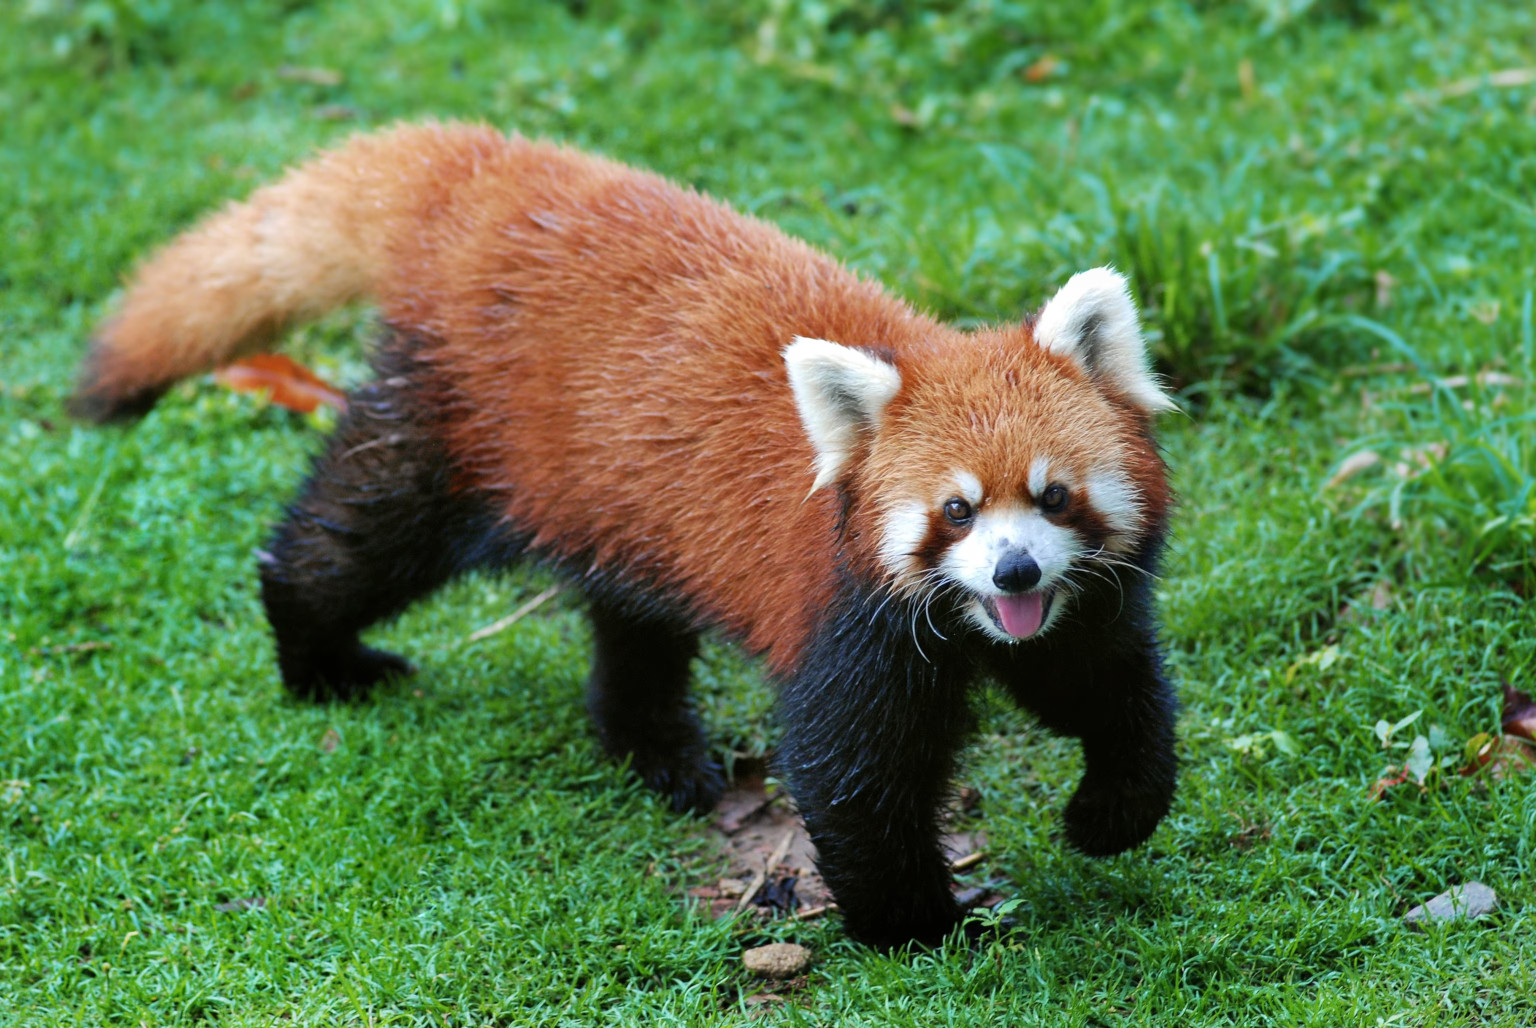Red panda: (782, 266, 1186, 646)
